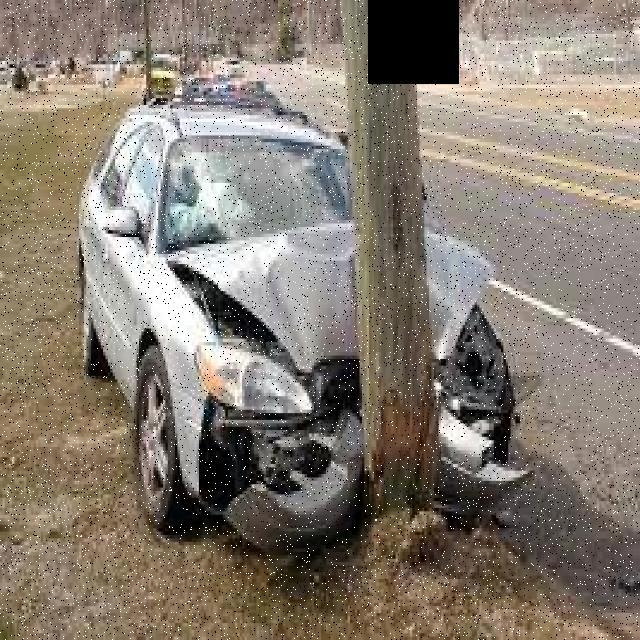moderate: (69, 88, 534, 556)
